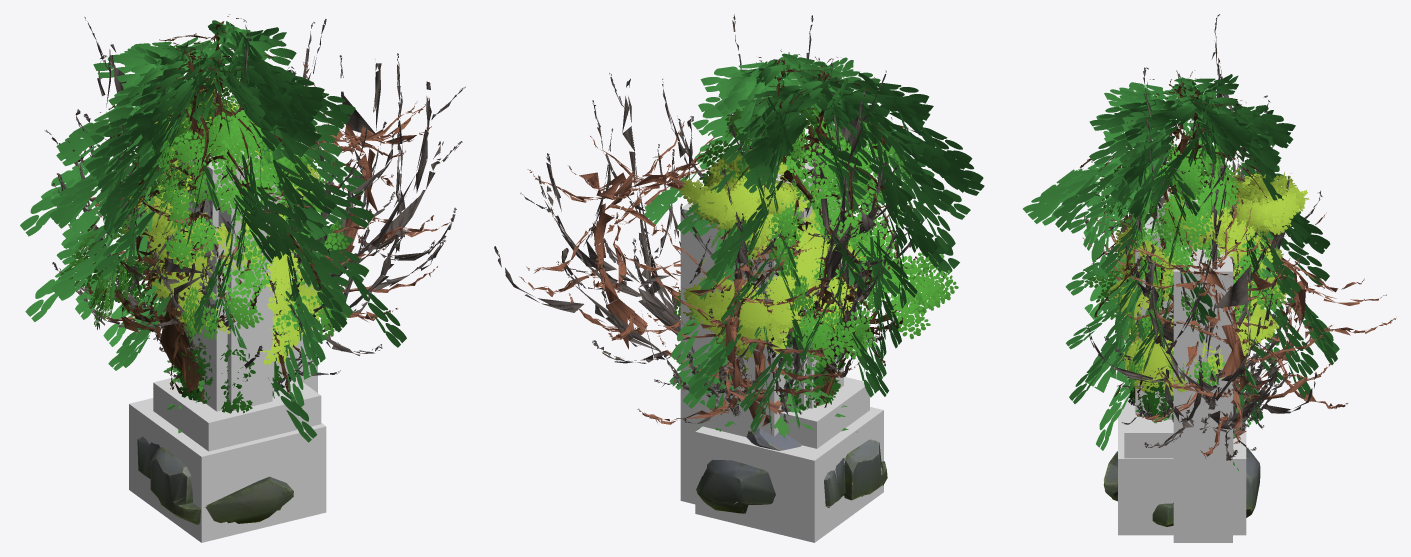
File: nature.glb
3 views of the same model, side by side, from view 1: azimuth 30°, elevation 25°; view 2: azimuth 150°, elevation 25°; view 3: azimuth 270°, elevation 25° (orthographic). The views are drawn at different scales.
Parts seen in each view (by area): view 1: Nat_GiantPine_2, Nat_GiantPine_1, Col_Nat_Rock_Big_2_0, Nat_TallThick_3, Nat_TallThick_1, Nat_TwistedTree_1, Col_Nat_Rock_Big_1_0, Nat_Rock_Big_2, Nat_TallThick_2, Col_Nat_GiantPine_1_0, Nat_Birch_1, Nat_CherryBlossom_3 (+11 smaller); view 2: Nat_GiantPine_2, Nat_GiantPine_1, Col_Nat_Rock_Big_2_0, Nat_TallThick_3, Nat_TwistedTree_1, Nat_Birch_5, Nat_CherryBlossom_3, Nat_Rock_Big_2, Nat_CherryBlossom_1, Nat_TwistedTree_2, Col_Nat_TwistedTree_1_0, Nat_TallThick_2 (+8 smaller); view 3: Nat_GiantPine_2, Nat_GiantPine_1, Col_Nat_TwistedTree_1_0, Nat_TwistedTree_1, Nat_CherryBlossom_3, Col_Nat_Rock_Big_2_0, Nat_TallThick_2, Nat_TallThick_1, Nat_Birch_3, Nat_Birch_5, Nat_Birch_1, Nat_CherryBlossom_1 (+7 smaller).
Boxes of the visible parts, x1,y1,x2,y2 form: Nat_GiantPine_2: (20,35,406,366); Nat_GiantPine_1: (107,14,353,442); Col_Nat_Rock_Big_2_0: (129,398,326,542); Nat_TallThick_3: (58,78,308,401); Nat_TallThick_1: (96,107,349,343); Nat_TwistedTree_1: (252,22,465,355); Col_Nat_Rock_Big_1_0: (153,377,321,451); Nat_Rock_Big_2: (137,436,293,524); Nat_TallThick_2: (132,70,329,291); Col_Nat_GiantPine_1_0: (218,194,272,410); Nat_Birch_1: (148,108,323,364); Nat_CherryBlossom_3: (152,62,451,321); Nat_GiantPine_2: (643,52,984,433); Nat_GiantPine_1: (669,49,895,431); Col_Nat_Rock_Big_2_0: (695,407,883,542); Nat_TallThick_3: (740,107,958,408); Nat_TwistedTree_1: (494,73,754,416); Nat_Birch_5: (678,170,836,372); Nat_CherryBlossom_3: (519,121,889,349); Nat_Rock_Big_2: (696,428,887,513); Nat_CherryBlossom_1: (637,223,860,426); Nat_TwistedTree_2: (680,14,922,388); Col_Nat_TwistedTree_1_0: (680,202,719,504); Nat_TallThick_2: (699,104,884,310); Nat_GiantPine_2: (1023,70,1339,403); Nat_GiantPine_1: (1083,89,1309,470); Col_Nat_TwistedTree_1_0: (1173,247,1232,542); Nat_TwistedTree_1: (1087,170,1317,460); Nat_CherryBlossom_3: (1083,195,1331,459); Col_Nat_Rock_Big_2_0: (1118,405,1246,535); Nat_TallThick_2: (1114,128,1269,345); Nat_TallThick_1: (1084,146,1285,392); Nat_Birch_3: (1114,193,1279,392); Nat_Birch_5: (1162,172,1309,393); Nat_Birch_1: (1109,168,1265,395); Nat_CherryBlossom_1: (1107,212,1395,408).
Size of what is drawn, in the model's own units: 16.45 by 18.08 by 14.06.
17 materials, 17 textured.
